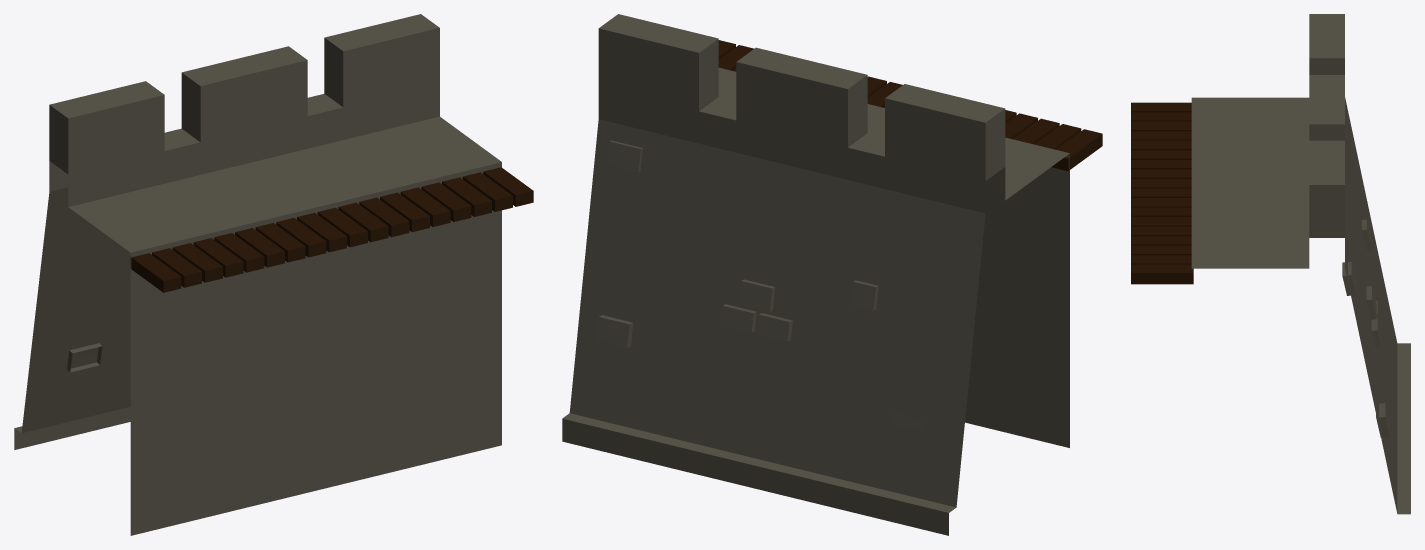
Rendered from CastleWall.fbx.
3 renders of one model, left to right at view 1: azimuth 30°, elevation 25°; view 2: azimuth 150°, elevation 25°; view 3: azimuth 270°, elevation 25°, orthographic. The views are drawn at different scales.
Visible parts, largest first — view 1: CastleWall; view 2: CastleWall; view 3: CastleWall.
Part boxes in pixels (left/top/right/bottom): CastleWall: left=14, top=14, right=533, bottom=535; CastleWall: left=562, top=14, right=1102, bottom=535; CastleWall: left=1131, top=14, right=1410, bottom=514.
Size of the model in its own units: 500 by 478 by 346.
